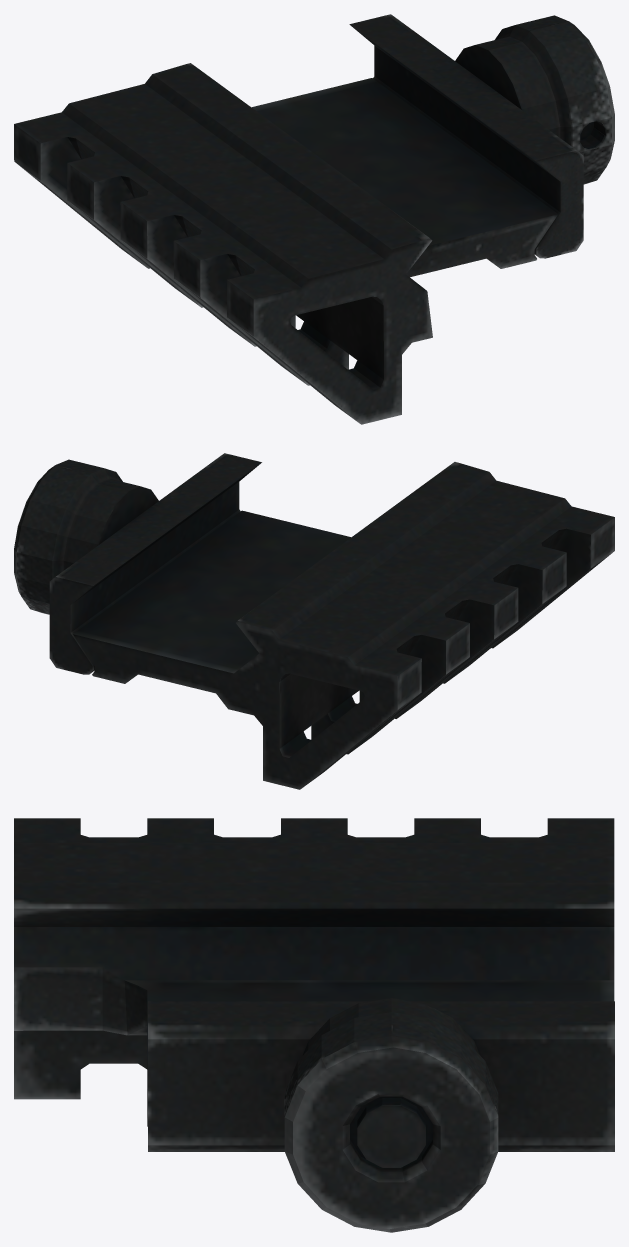
3 renders of one model, top to bottom at view 1: azimuth 30°, elevation 25°; view 2: azimuth 150°, elevation 25°; view 3: azimuth 270°, elevation 25°, orthographic. The views are drawn at different scales.
Visible parts, largest first — view 1: TW_5649a2464bdc2d91118b45a8_PZ_Import; view 2: TW_5649a2464bdc2d91118b45a8_PZ_Import; view 3: TW_5649a2464bdc2d91118b45a8_PZ_Import.
Part boxes in pixels (x1,y1,x2,y2): TW_5649a2464bdc2d91118b45a8_PZ_Import: [14, 14, 614, 424]; TW_5649a2464bdc2d91118b45a8_PZ_Import: [14, 453, 614, 789]; TW_5649a2464bdc2d91118b45a8_PZ_Import: [14, 818, 614, 1232].
Bounding box in the file's own units: 0.0284 × 0.025 × 0.0118.
1 material, 1 textured.
